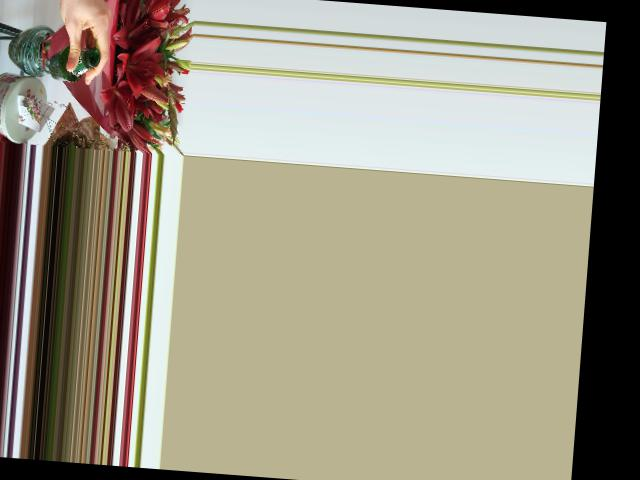beer: (47, 42, 101, 83)
